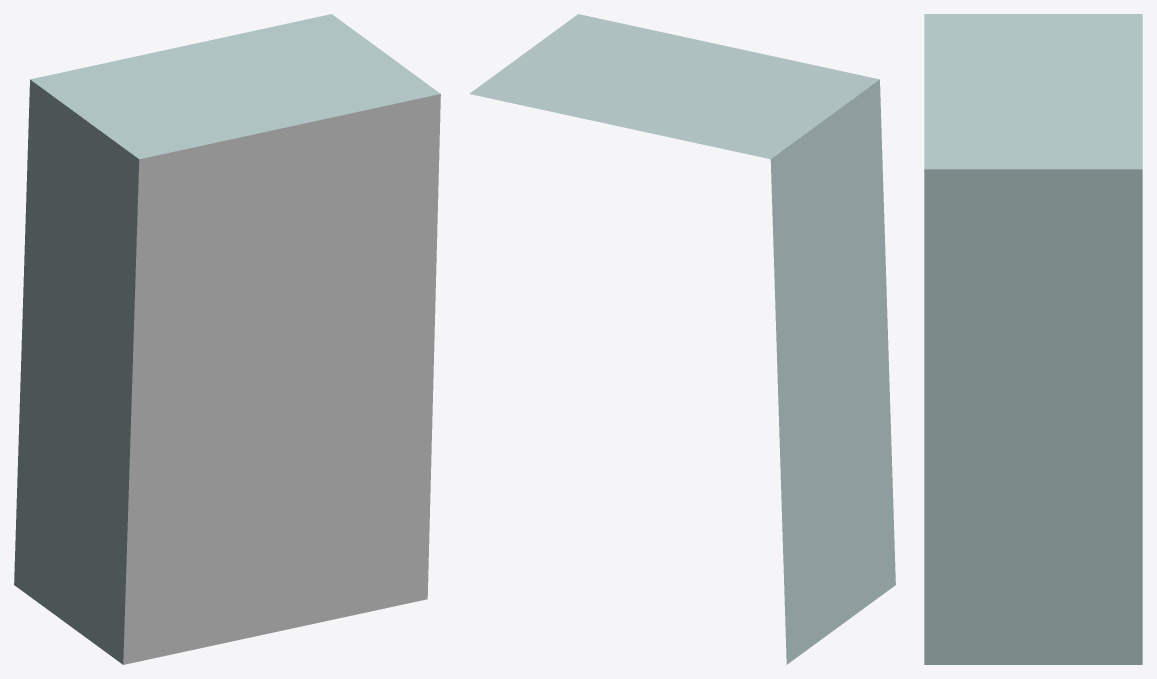
The picture shows the model from 3 angles, left to right: view 1: azimuth 30°, elevation 25°; view 2: azimuth 150°, elevation 25°; view 3: azimuth 270°, elevation 25°; orthographic projection.
Parts seen in each view (by area): view 1: 0_1_2_1_1_0_0_2; view 2: 0_1_2_1_1_0_0_2; view 3: 0_1_2_1_1_0_0_2.
Part boxes in pixels (box(x1,y1,x2,y2)): 0_1_2_1_1_0_0_2: box(14, 14, 440, 664); 0_1_2_1_1_0_0_2: box(469, 14, 895, 664); 0_1_2_1_1_0_0_2: box(924, 14, 1142, 664).
Bounding box in the file's own units: 5.04 × 7.73 × 3.
